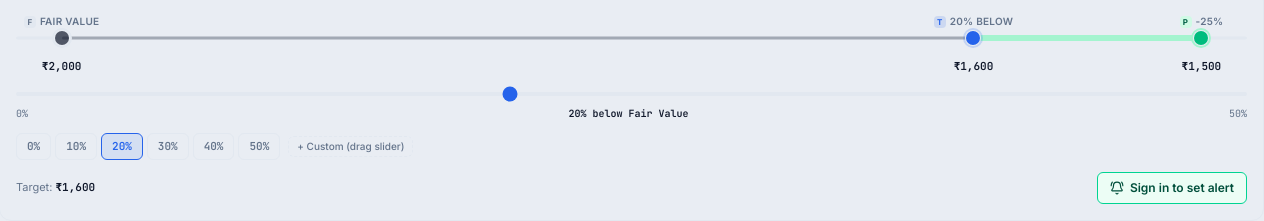
Test: PriceLadderPanel › chip click sets MoS percentage and updates the readout
Click the radio button with test id "ladder-chip-40" at (214, 146), box [193,133,234,160]
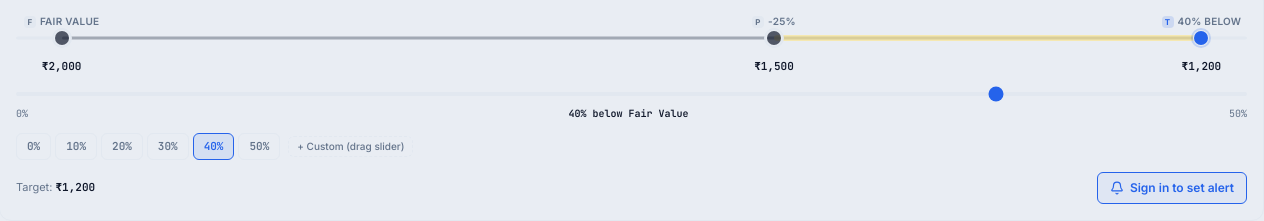
Check: the text with test id "ladder-slider-readout" reads "40% below Fair Value", box [568,106,688,121]
